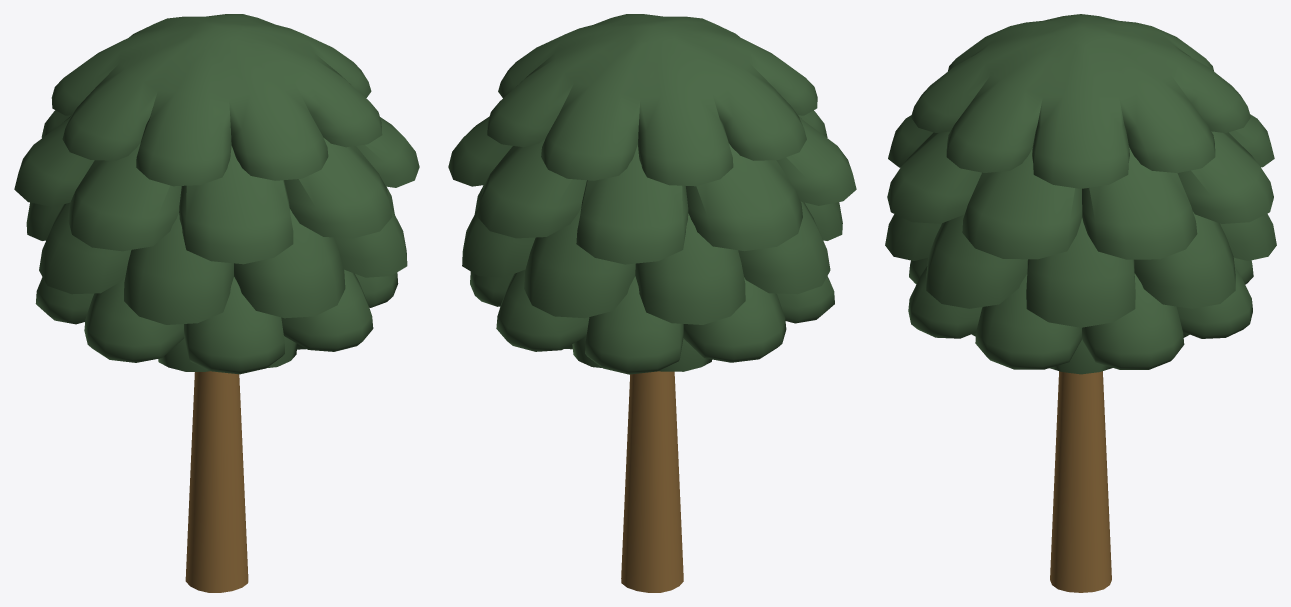
Rendered from Tree.glb.
3 views of the same model, side by side, from view 1: azimuth 30°, elevation 25°; view 2: azimuth 150°, elevation 25°; view 3: azimuth 270°, elevation 25° (orthographic).
Visible parts, largest first — view 1: Tree; view 2: Tree; view 3: Tree.
Boxes of the visible parts, box(x1,y1,x2,y2) form: Tree: box(14, 14, 419, 592); Tree: box(448, 14, 856, 592); Tree: box(885, 14, 1276, 592).
Bounding box in the file's own units: 5.53 × 8.63 × 5.55.
